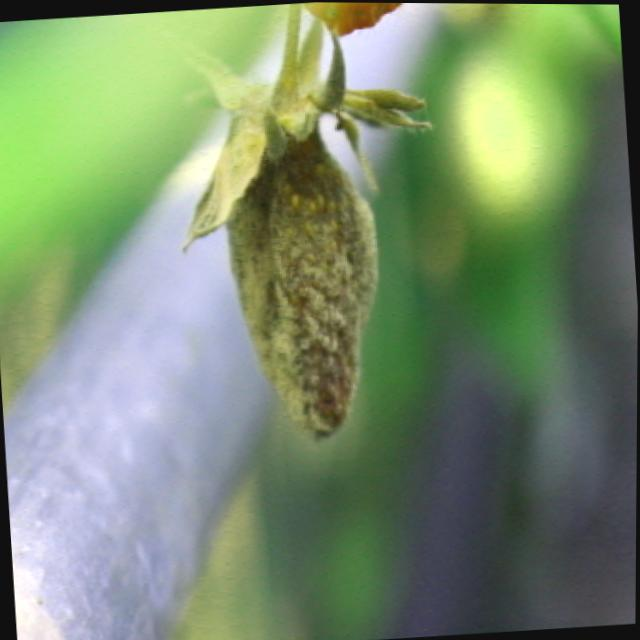Gray Mold: (182, 18, 436, 444)
